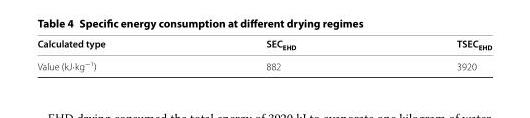table: (36, 36, 491, 78)
table column: (185, 36, 375, 78), (36, 36, 185, 78), (375, 36, 491, 78)
table column header: (36, 36, 491, 54)
table row: (36, 54, 491, 78), (36, 36, 491, 54)
